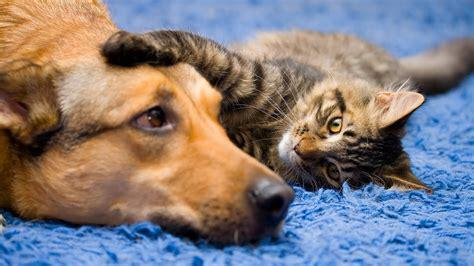cat: (104, 29, 474, 191)
dog: (1, 1, 293, 246)
